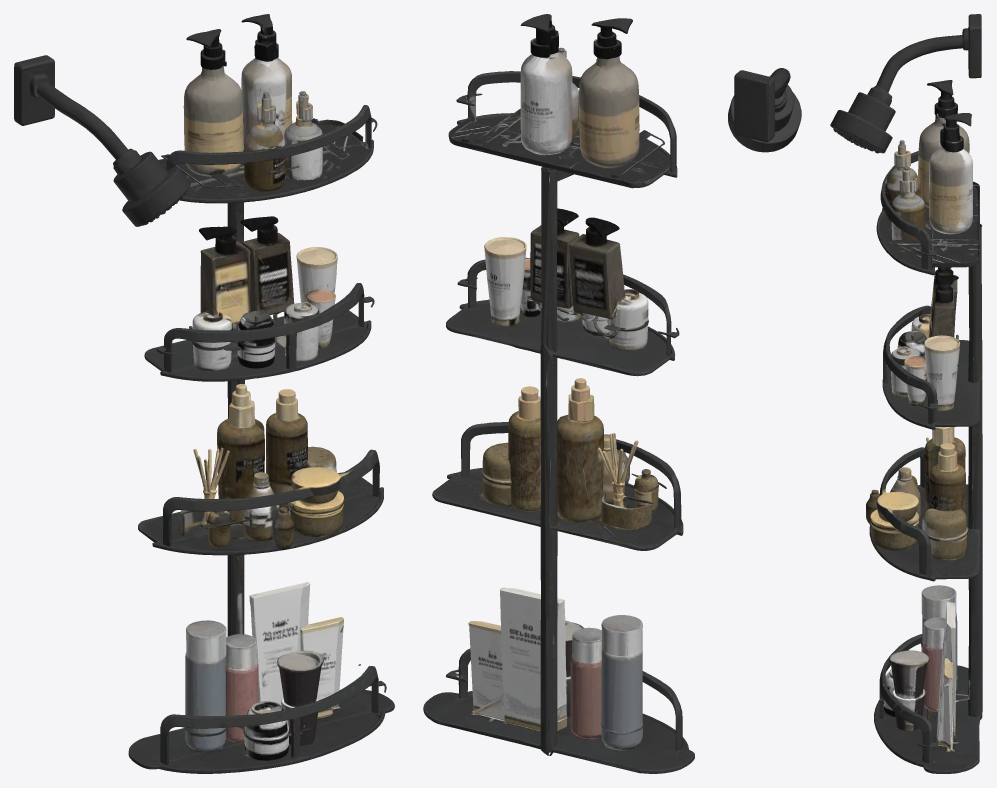
Rendered from wayfair-com-home-improvement-pdp-latitude-run-tension-pole-s-616ca6.glb.
3 views of the same model, side by side, from view 1: azimuth 30°, elevation 25°; view 2: azimuth 150°, elevation 25°; view 3: azimuth 270°, elevation 25° (orthographic). The views are drawn at different scales.
Parts seen in each view (by area): view 1: Mesh_0; view 2: Mesh_0; view 3: Mesh_0.
Boxes of the visible parts, x1=… form: Mesh_0: x1=14, y1=14, x2=394, y2=773; Mesh_0: x1=423, y1=14, x2=801, y2=773; Mesh_0: x1=830, y1=14, x2=982, y2=773.
Bounding box in the file's own units: 0.9845 × 1.9 × 0.4247.
Materials: 1 (1 with a texture image).
